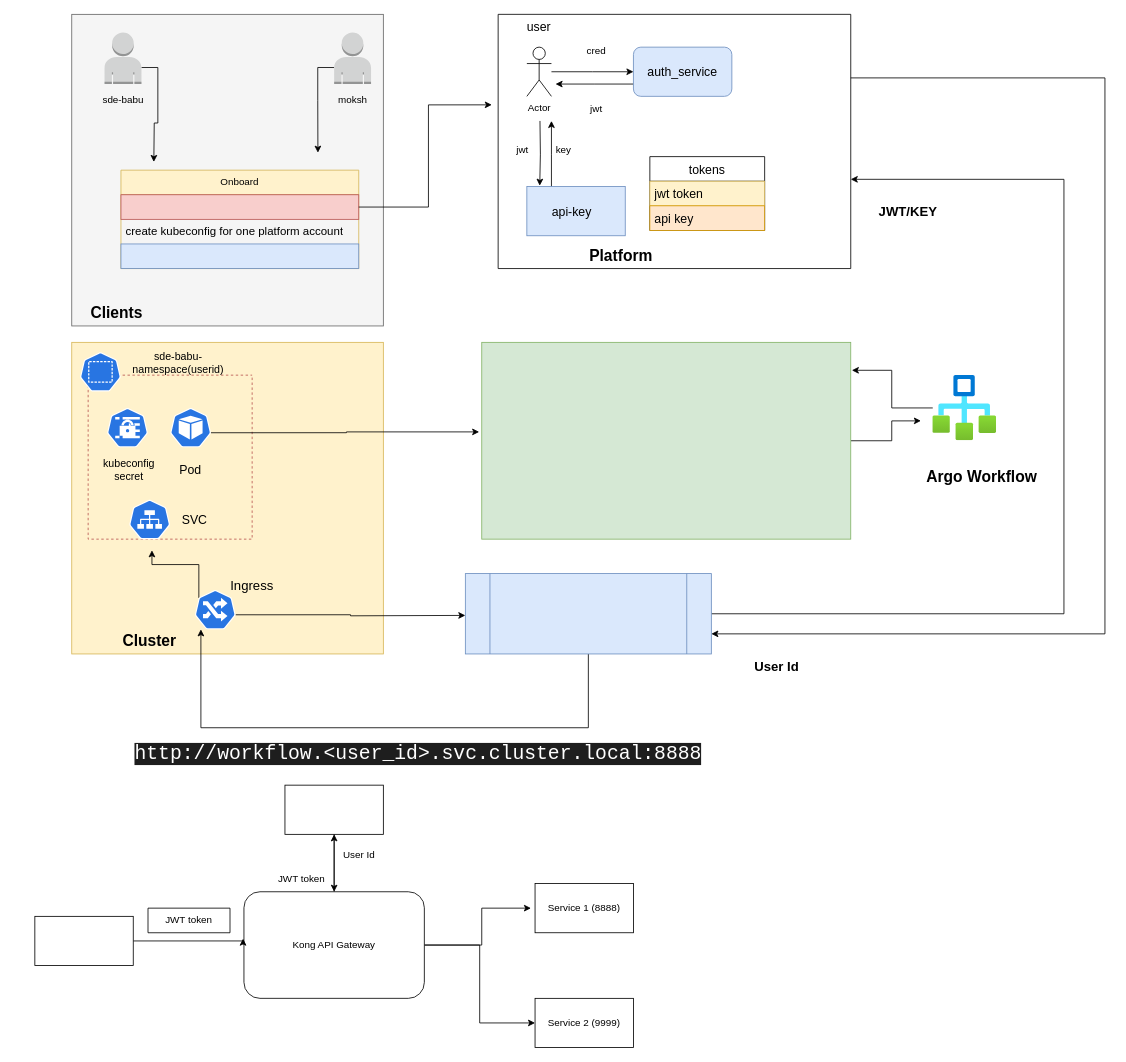
This 1126x1062 diagram has some shape labels left out. Each missing label, with the centre of its shape:
Client: point (83, 941)
create namespace and secret(kubeconfig): point (239, 256)
Decode service: point (333, 809)
exchange platform token with userid: point (588, 613)
Register on the platform: point (239, 206)
Workflow Module: point (666, 440)
